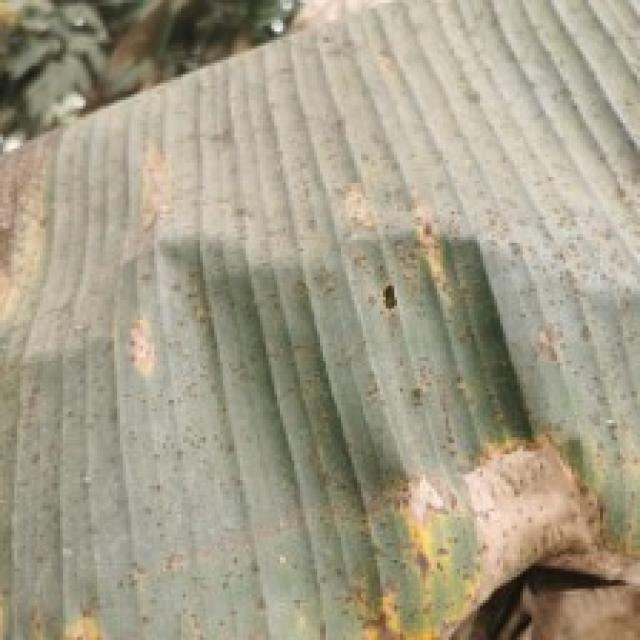Downey_mildrew: (4, 12, 640, 639), (303, 434, 640, 640), (3, 120, 198, 376), (390, 204, 486, 324), (3, 580, 188, 640)
